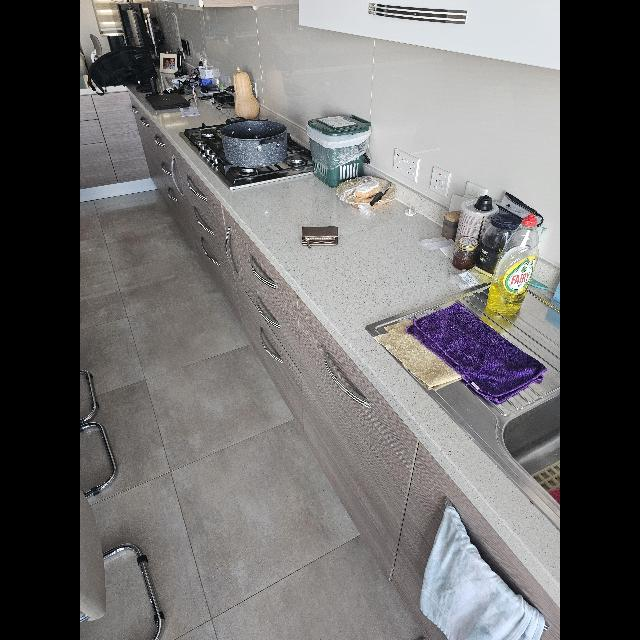Wallet: (302, 227, 338, 249)
